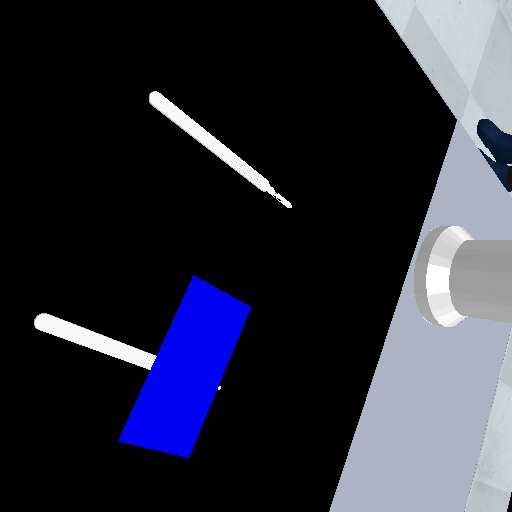bisturi: (143, 85, 297, 212), (30, 306, 159, 373)
